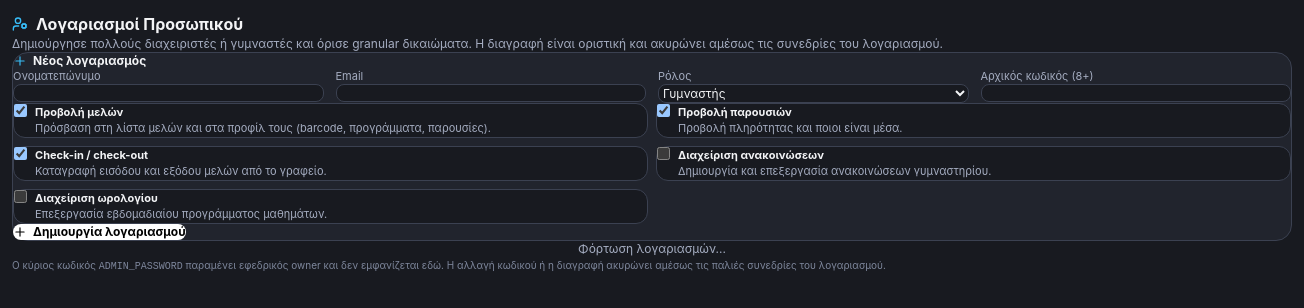
Test: StaffTab (staff accounts and permissions) › reports a rejected account creation instead of silently doing nothing
Expected: the button "Δημιουργία λογαριασμού" is shown, [13,224,186,240]
Type "Διπλό" into the field below "Ονοματεπώνυμο" at (168, 93), box [13,84,324,102]
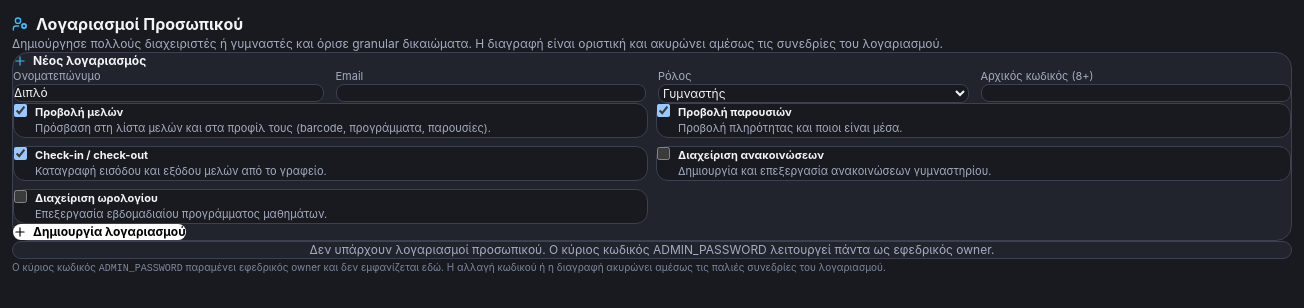
Type "dup@x.gr" into the field below "Email" at (491, 93), box [336,84,646,102]
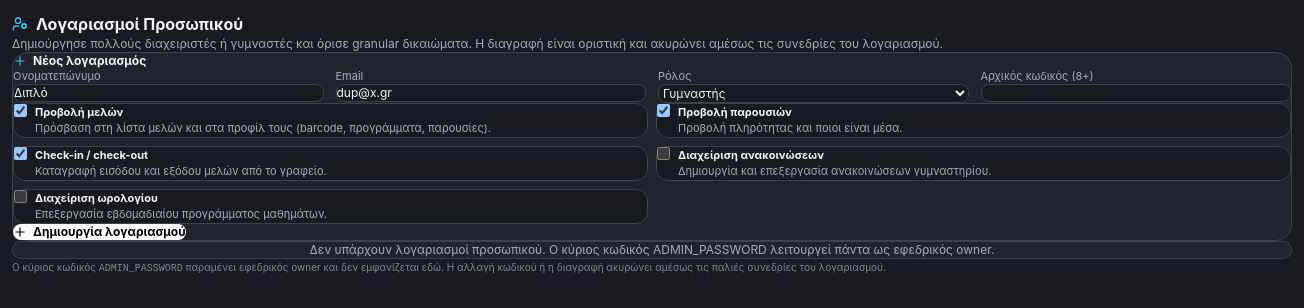
Type "supersecret1" into the password field at (1136, 93), box [980,84,1291,102]
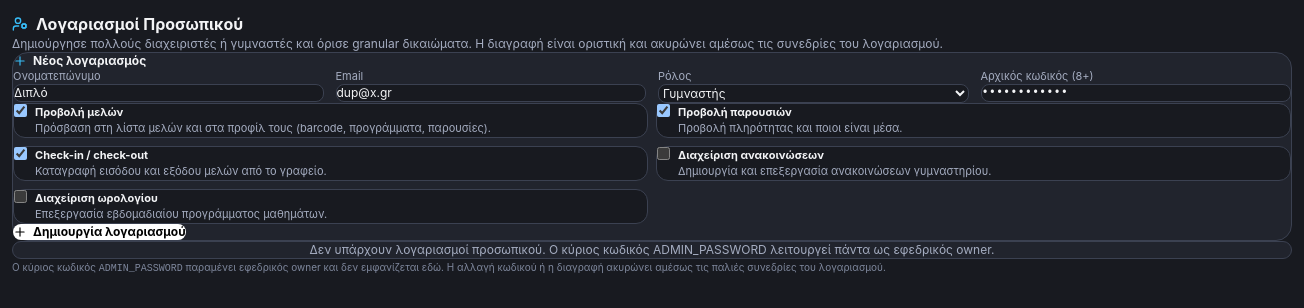
Click the button "Δημιουργία λογαριασμού" at (99, 232), box [13,224,186,240]
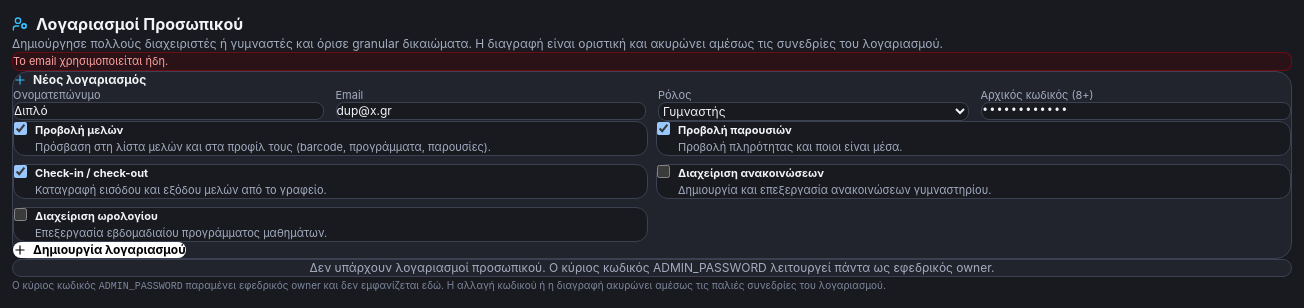
Expected: the text "Το email χρησιμοποιείται ήδη." is shown, [12,52,1292,70]
